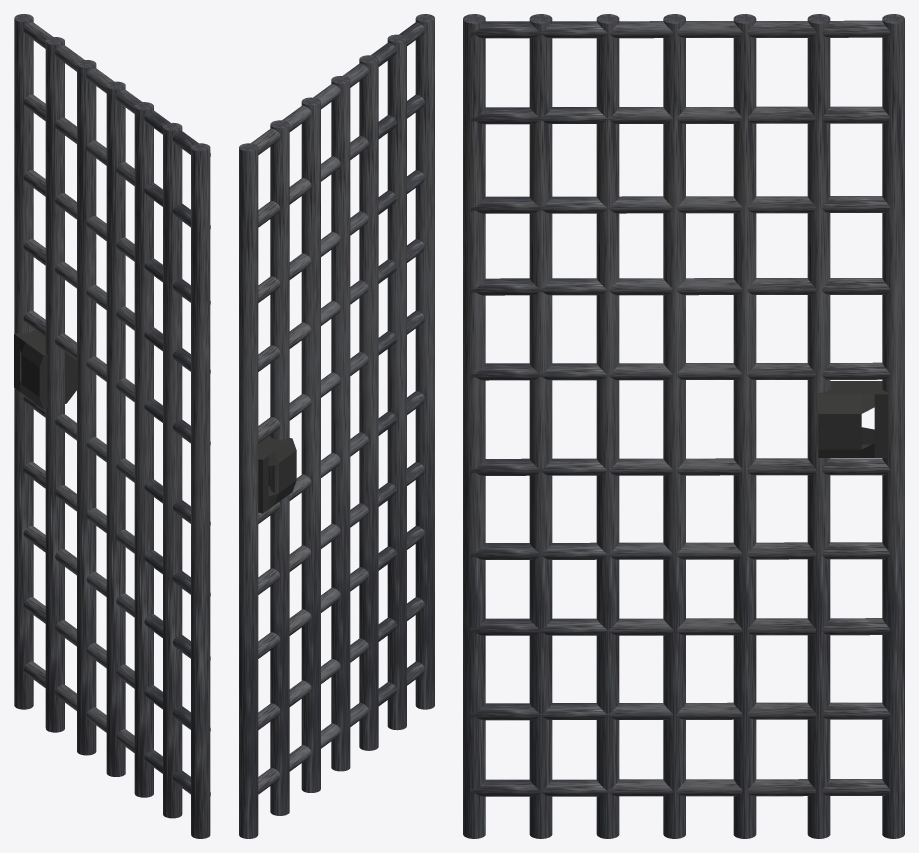
The model's file is ironbarswithlock2.glb.
3 views of the same model, side by side, from view 1: azimuth 30°, elevation 25°; view 2: azimuth 150°, elevation 25°; view 3: azimuth 270°, elevation 25° (orthographic). The views are drawn at different scales.
Parts seen in each view (by area): view 1: Ironbars-col, Lock-col; view 2: Ironbars-col, Lock-col; view 3: Ironbars-col, Lock-col.
Part boxes in pixels (x1,y1,x2,y2): Ironbars-col: (14,14,210,838); Lock-col: (14,329,76,408); Ironbars-col: (239,14,434,838); Lock-col: (258,435,296,513); Ironbars-col: (463,14,904,838); Lock-col: (818,381,888,457).
Bounding box in the file's own units: 0.1224 × 2.05 × 1.01.
Materials: 2 (1 with a texture image).
